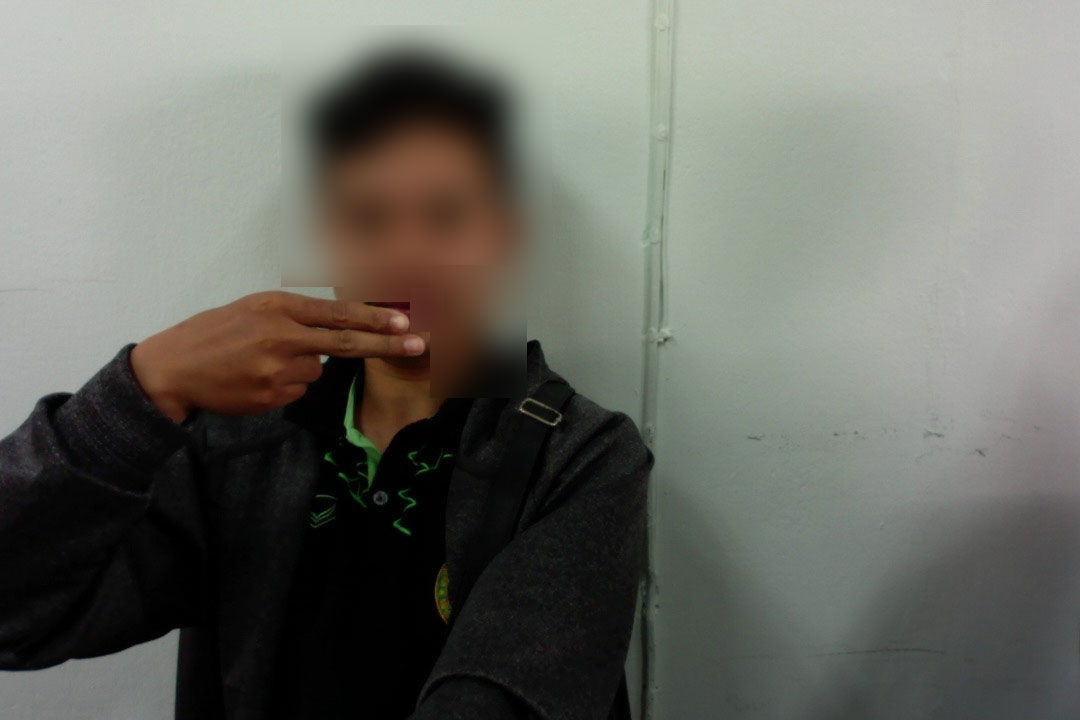hor: (158, 285, 431, 416)
